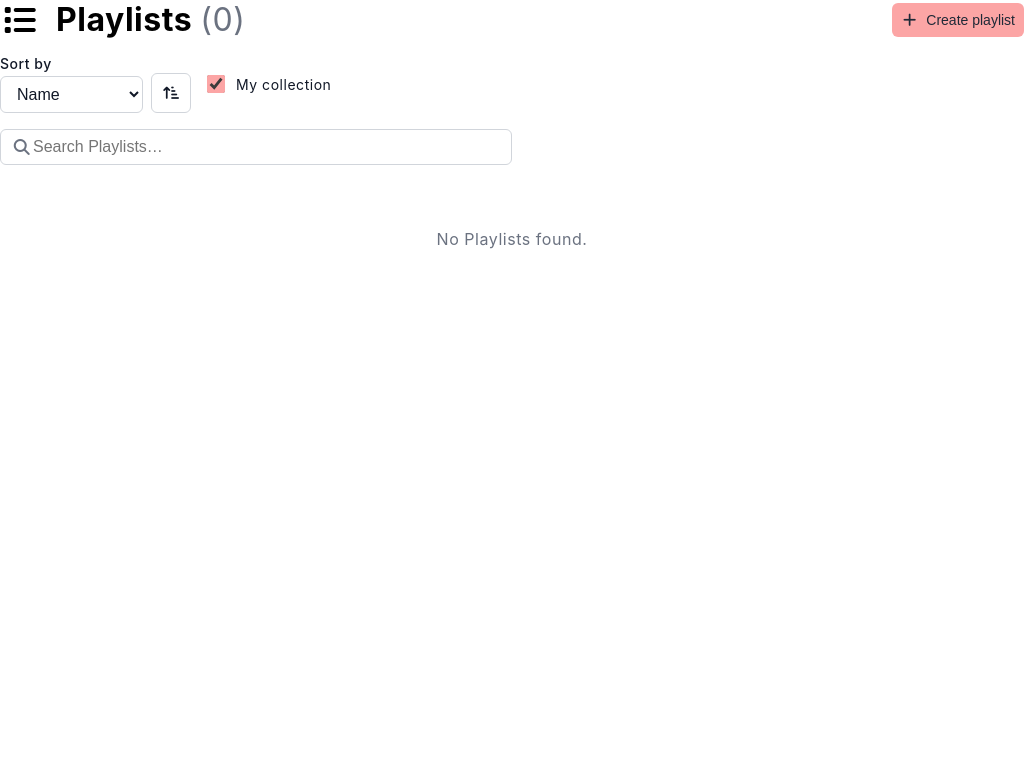
Test: PlaylistsView › surfaces creation errors in the modal
Click the button "Create playlist": (958, 20) [892,2,1023,36]
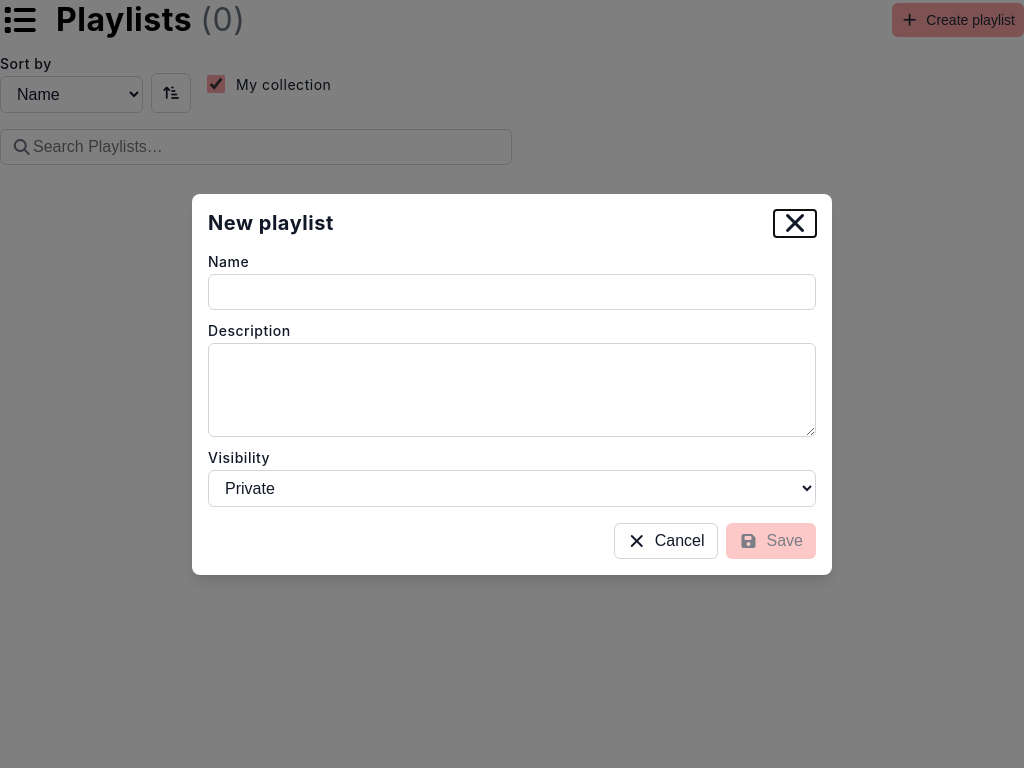
In the field labelled "Name": (512, 292) [208,274,816,310], type "Road Trip"
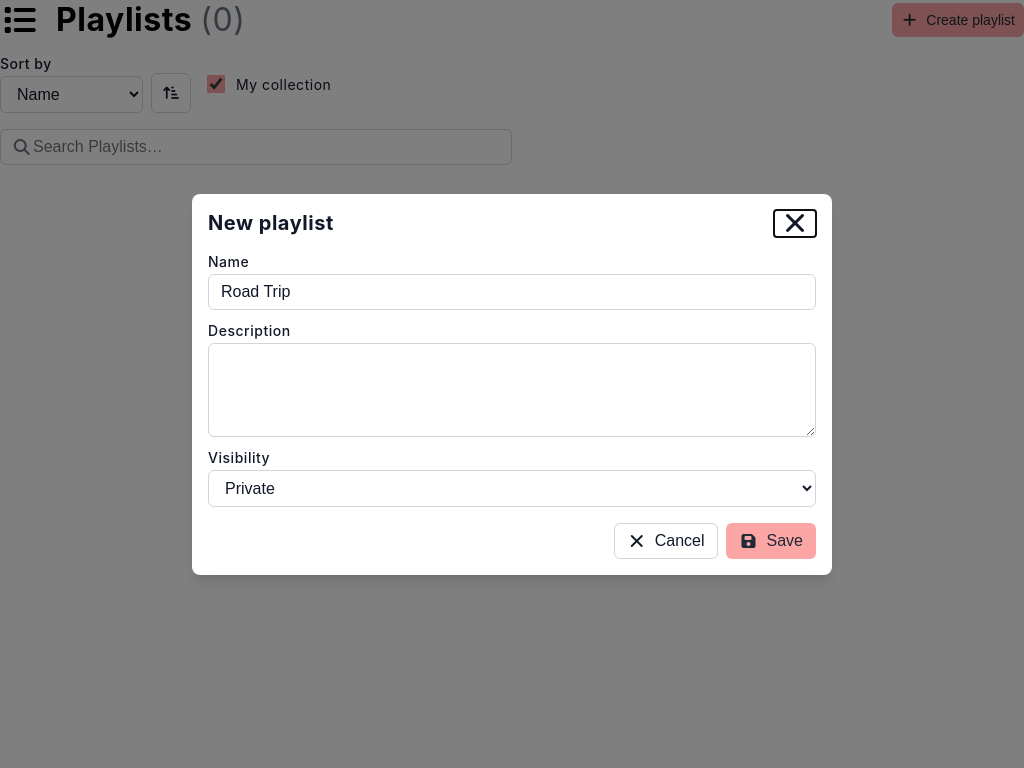
Click the button "Save": (771, 540) [726,522,816,558]
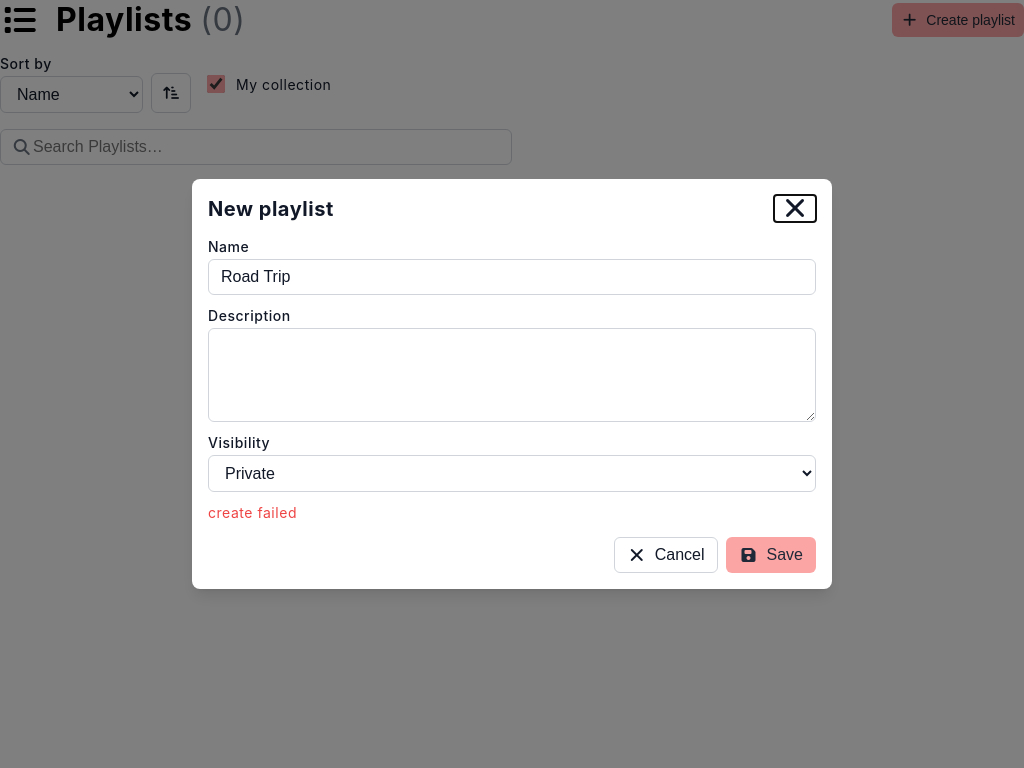
Now the text "create failed" is shown, box [208,504,297,521]
